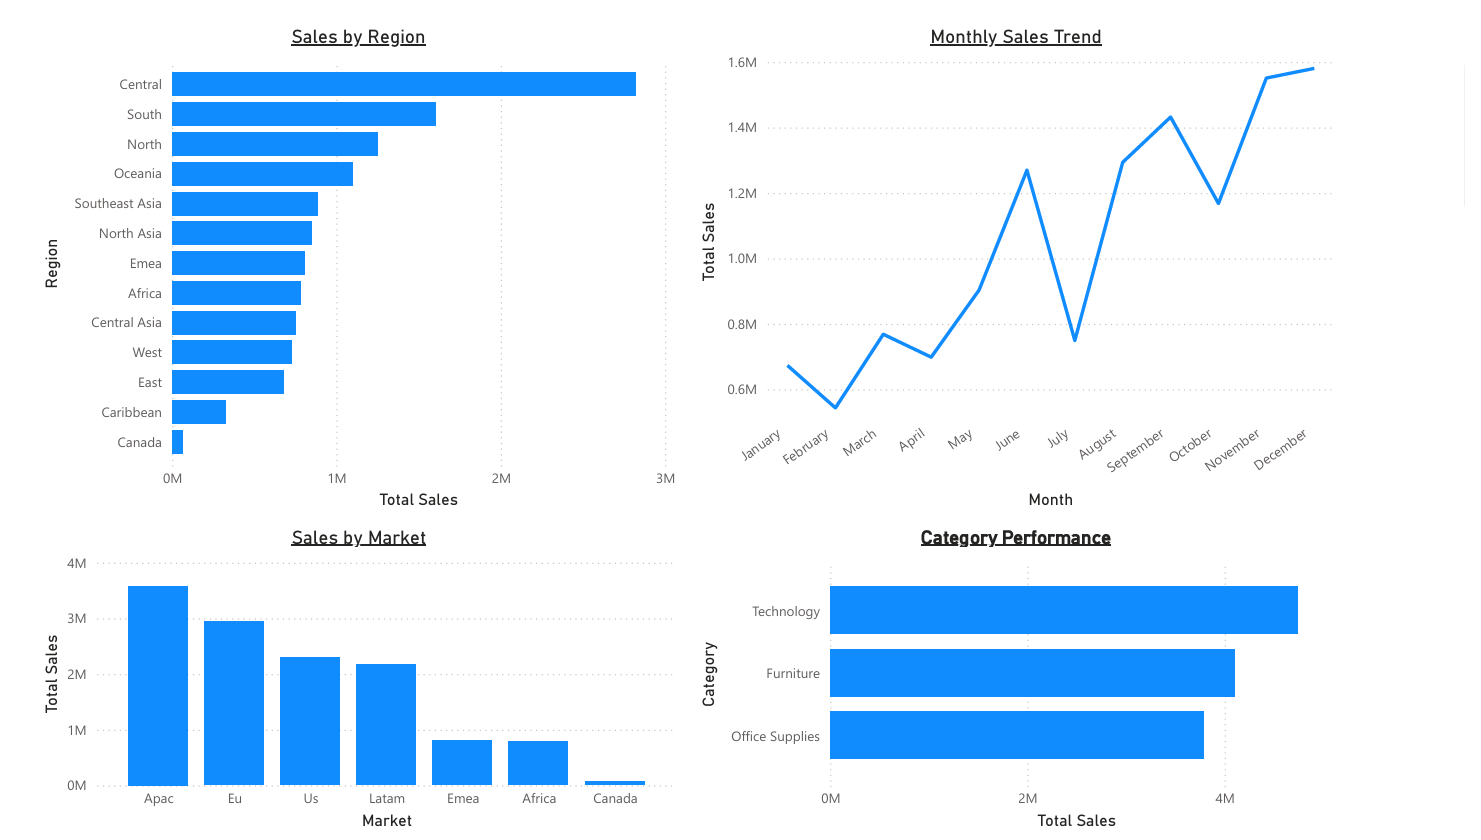

This screenshot's page, from the dashboard's own definition file:
{"tool":"powerbi","page":{"name":"Sales Analysis","canvas":[1280,720],"ordinal":1},"visuals":[{"type":"clusteredBarChart","title":"Sales by Region","fields":{"Category":["Cleaned Dataset 1.Region"],"Y":["Cleaned Dataset 1.Total Sales"]},"box":[9.6,0,573.6,435],"z":0},{"type":"clusteredColumnChart","title":"Sales by Market","fields":{"Category":["Cleaned Dataset 1.Market"],"Y":["Cleaned Dataset 1.Total Sales"]},"box":[10,445,574,275],"z":1},{"type":"lineChart","title":"Monthly Sales Trend","fields":{"Y":["Cleaned Dataset 1.Total Sales"],"Category":["Cleaned Dataset 1.order_date.Variation.Date Hierarchy.Month"]},"box":[594,0,574,435],"z":2},{"type":"clusteredBarChart","title":"Category Performance","fields":{"Category":["Cleaned Dataset 1.Category"],"Y":["Cleaned Dataset 1.Total Sales"]},"box":[594,445,574,275],"z":3}]}

Visuals, with their boxes in screenshot pixels (x1, y1, x2, y2), scaled from the page's 1280x720 canvas onto the 1481x840 screenshot:
"Sales by Region" clusteredBarChart: Rect(11, 0, 675, 508)
"Sales by Market" clusteredColumnChart: Rect(12, 519, 676, 839)
"Monthly Sales Trend" lineChart: Rect(687, 0, 1351, 508)
"Category Performance" clusteredBarChart: Rect(687, 519, 1351, 839)
